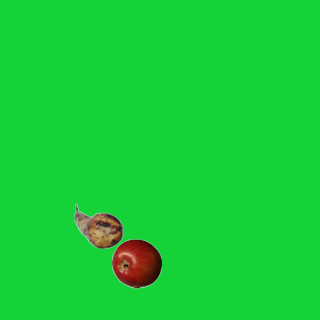Apple Braeburn: (111, 238, 161, 288)
Pear Abate: (73, 201, 123, 251)
